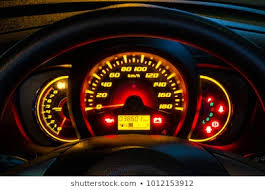Digital_Meter: (117, 115, 152, 131)
